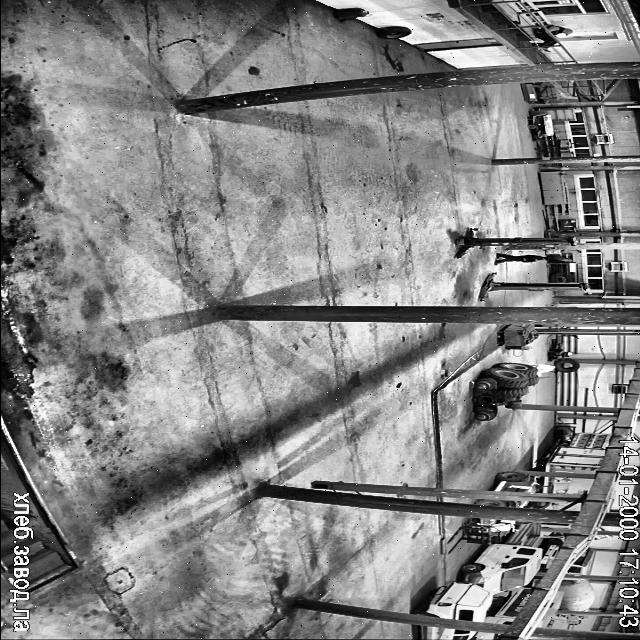class4: (534, 24, 572, 49), (494, 253, 549, 264)
class6: (475, 363, 537, 420)
class7: (461, 524, 541, 593), (533, 433, 612, 474), (412, 581, 492, 620), (484, 588, 532, 624), (493, 471, 542, 496), (540, 476, 594, 494), (535, 592, 562, 626), (422, 626, 475, 640), (476, 499, 550, 509), (567, 548, 595, 574), (477, 519, 527, 532), (540, 536, 563, 564), (476, 632, 498, 640), (569, 504, 579, 509), (523, 636, 529, 640), (554, 504, 559, 508), (532, 472, 534, 474)
tractor: (334, 8, 368, 21)
truck: (455, 228, 575, 257), (479, 272, 588, 300)
